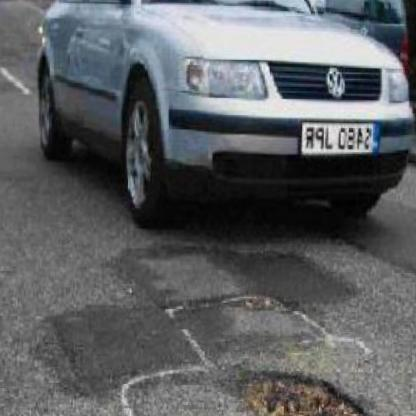pothole: (241, 368, 378, 416), (221, 285, 298, 312)
